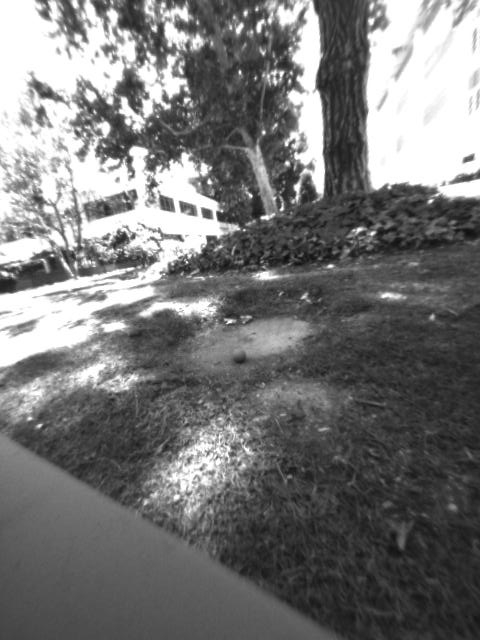dogtoy: (227, 342, 253, 367)
